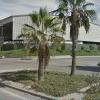Tree: (18, 0, 100, 57)
